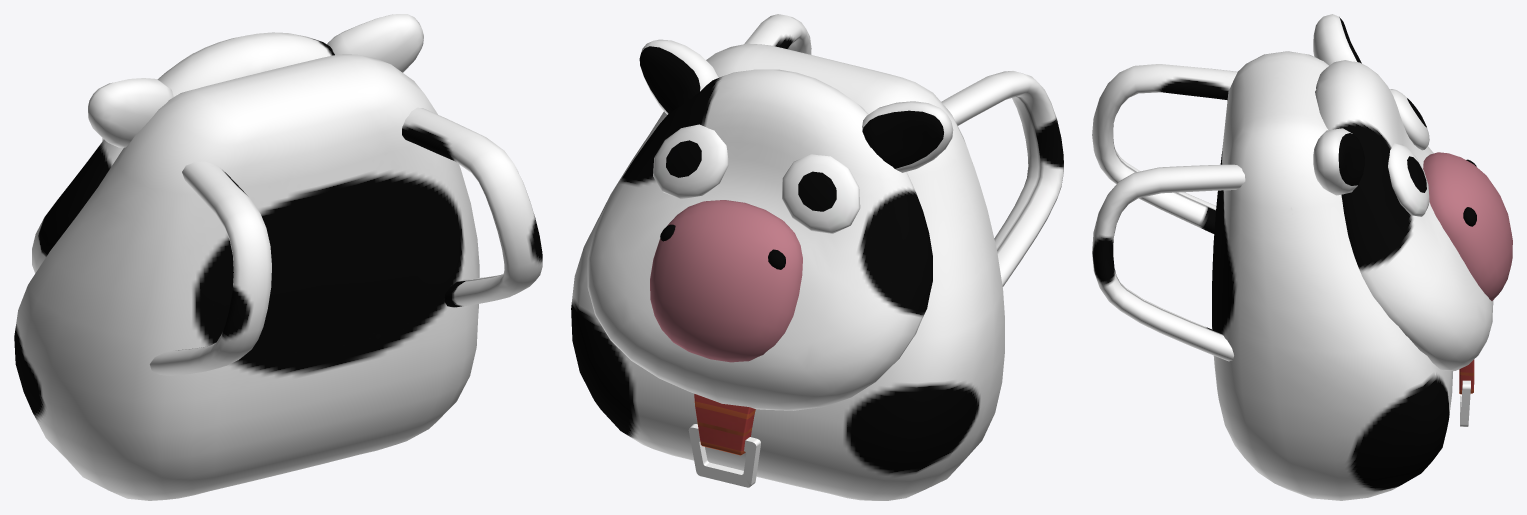
The model's file is Cap_Bo.fbx.
3 views of the same model, side by side, from view 1: azimuth 30°, elevation 25°; view 2: azimuth 150°, elevation 25°; view 3: azimuth 270°, elevation 25° (orthographic). The views are drawn at different scales.
Visible parts, largest first — view 1: Cap_Bo; view 2: Cap_Bo; view 3: Cap_Bo.
Part boxes in pixels (<box>): Cap_Bo: <box>14,14,542,500</box>; Cap_Bo: <box>571,14,1063,500</box>; Cap_Bo: <box>1092,14,1512,500</box>.
Bounding box in the file's own units: 121 × 118 × 119.
